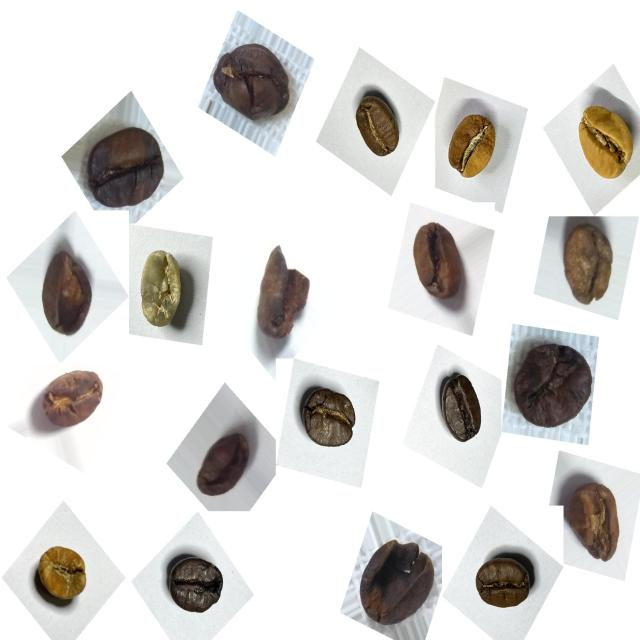bad: (506, 330, 602, 442), (350, 525, 443, 637), (78, 114, 174, 220), (209, 29, 301, 133), (249, 236, 321, 348), (31, 239, 105, 344), (556, 468, 630, 570), (550, 217, 624, 315), (402, 216, 476, 313), (189, 422, 262, 511), (36, 357, 111, 438)
dark: (465, 541, 541, 624), (162, 543, 235, 627), (426, 364, 492, 456)
green: (127, 235, 199, 344)
light: (564, 94, 638, 192), (440, 105, 510, 193), (27, 535, 99, 619)
medium: (292, 376, 367, 464), (345, 85, 411, 169)
